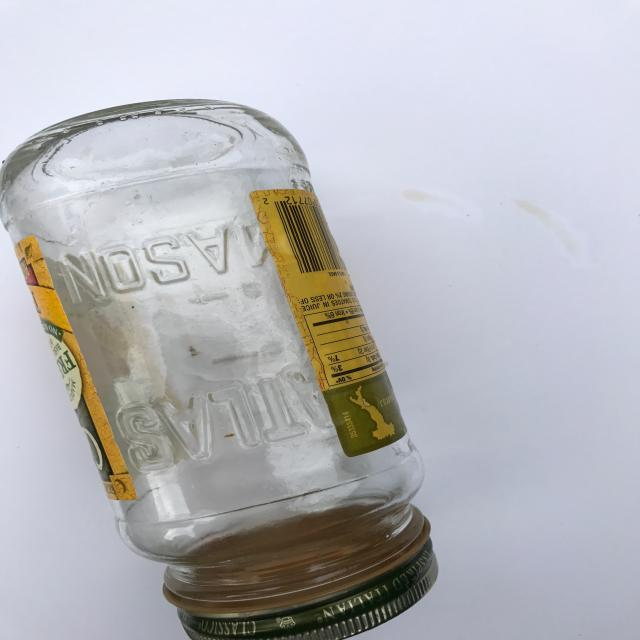glass: (2, 96, 440, 640)
